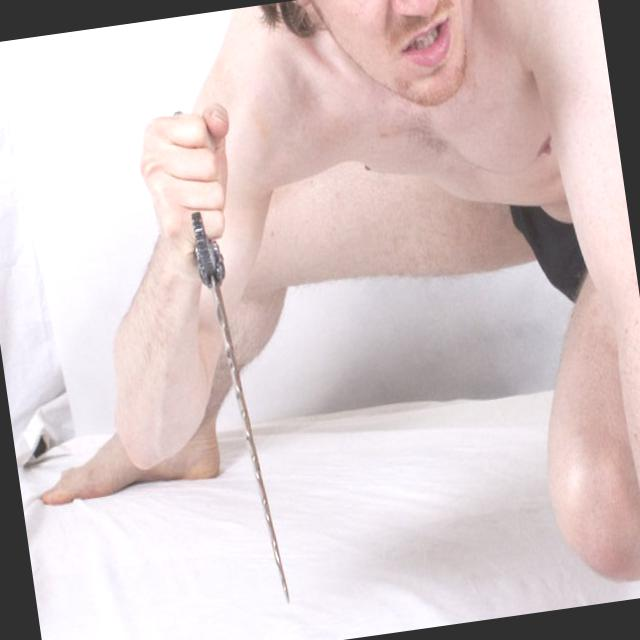knife: (122, 87, 311, 632)
